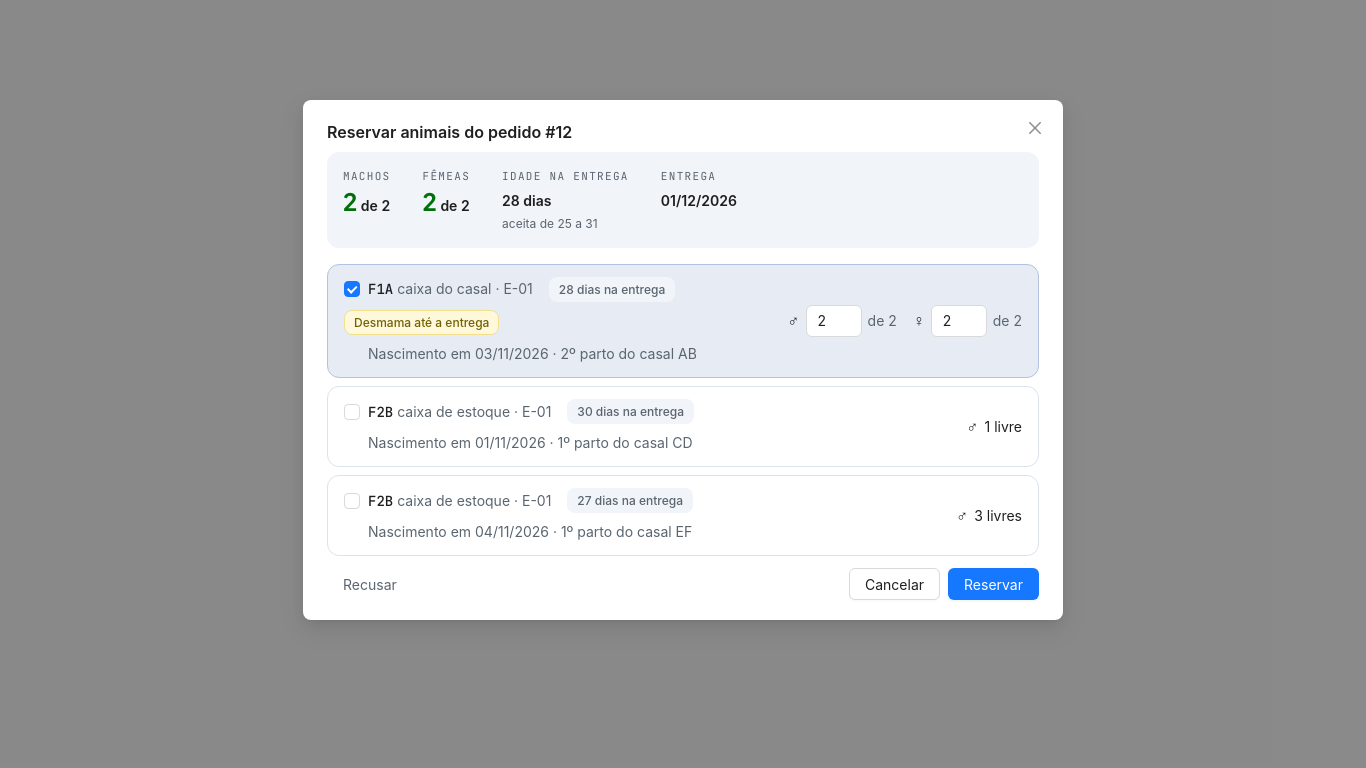
Scenario: reservar os animais do pedido aprovado › recusada e recarregada a busca, o lugar com menos livres que o marcado prende o envio
This screenshot has width=1366, height=768.
Note: a reserva marcada à mão: 2 machos e 2 fêmeas da F1A
What coordinates should you click on to do the following:
click the checkbox named "Reservar da caixa F2B, nascimento em 04/11/2026"
I would click on:
 (452, 501)
Its box is [344,490,559,512].
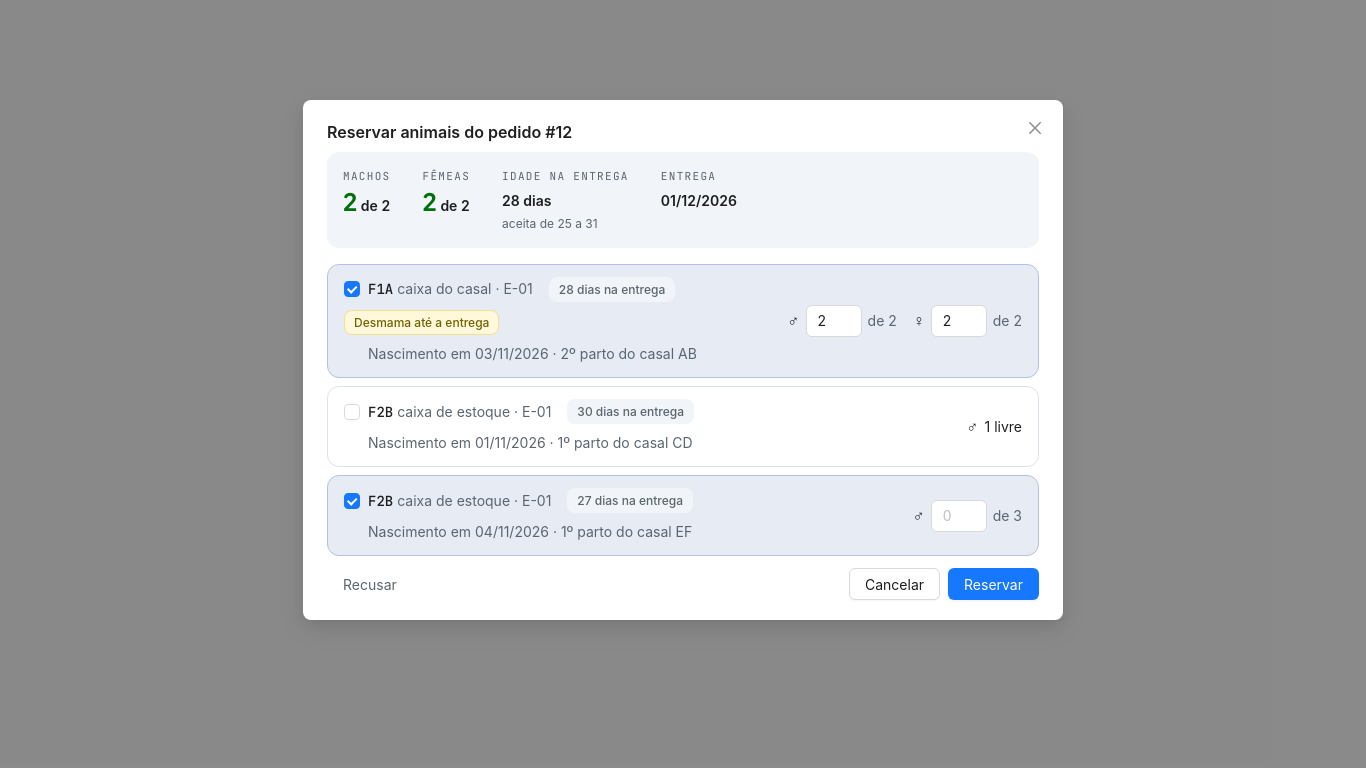
What coordinates should you click on to do the following:
click the button "Reservar"
I would click on:
 (994, 584)
Its box is [948,568,1039,600].
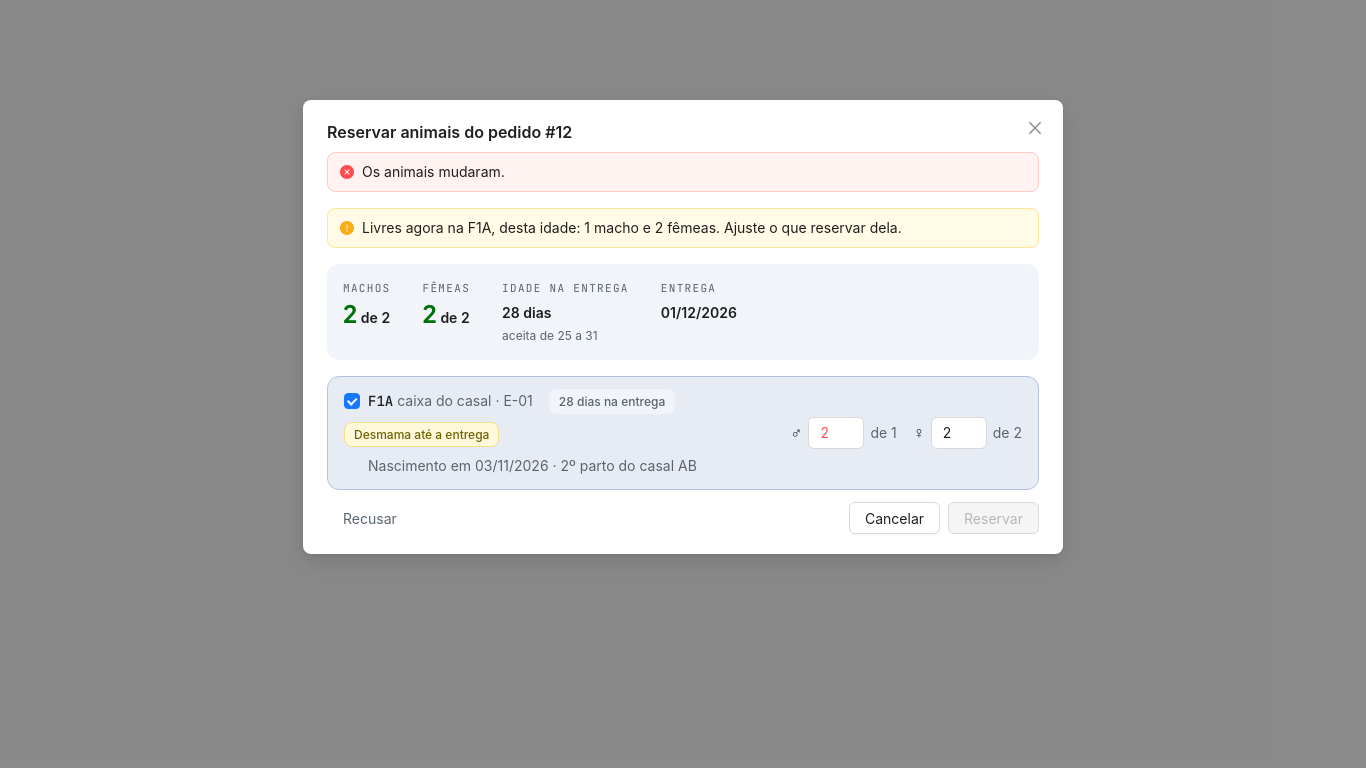
Expected: the text "Livres agora na F1A, desta idade: 1 macho e 2 fêmeas. Ajuste o que reservar dela." is shown, [362,219,902,236]
Expected: the button "Reservar" is disabled, [948,502,1039,534]
